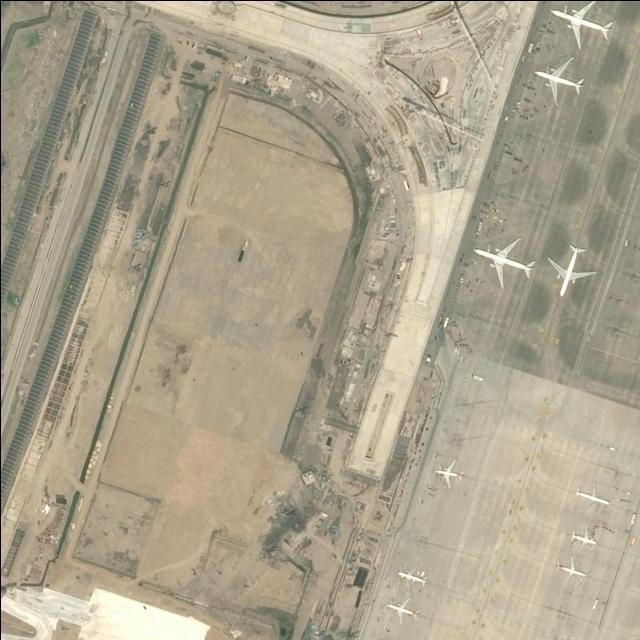Aircraft: (469, 235, 535, 286), (550, 0, 614, 49), (545, 242, 596, 296), (535, 56, 588, 105), (572, 481, 614, 509), (392, 563, 432, 587), (434, 460, 466, 488), (554, 556, 588, 582), (568, 523, 600, 549), (386, 599, 420, 623)
